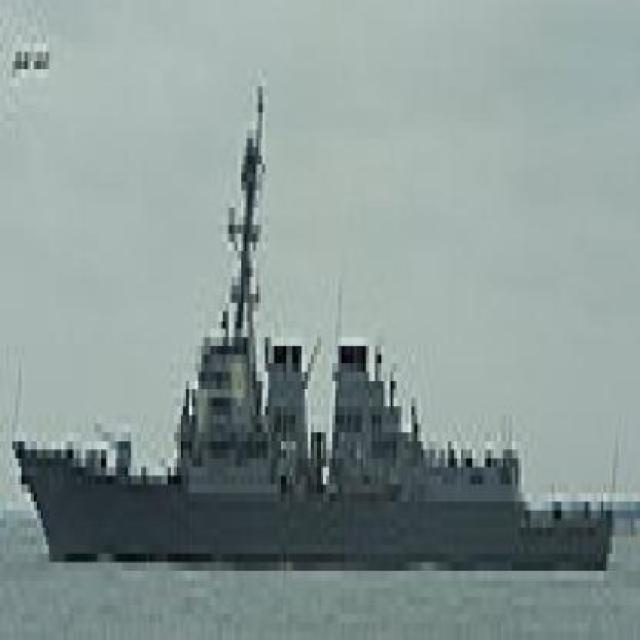warship2: (22, 79, 620, 580)
